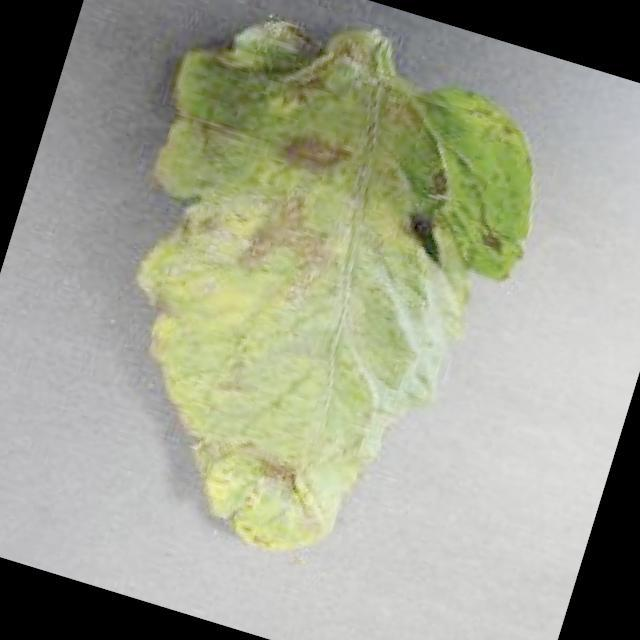Tomato bacterial spot leaf: (45, 0, 576, 609)
